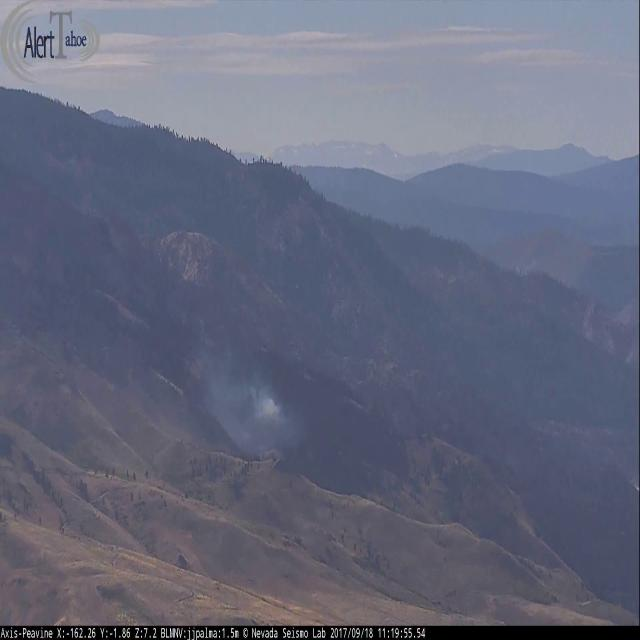smoke: (205, 360, 300, 458)
